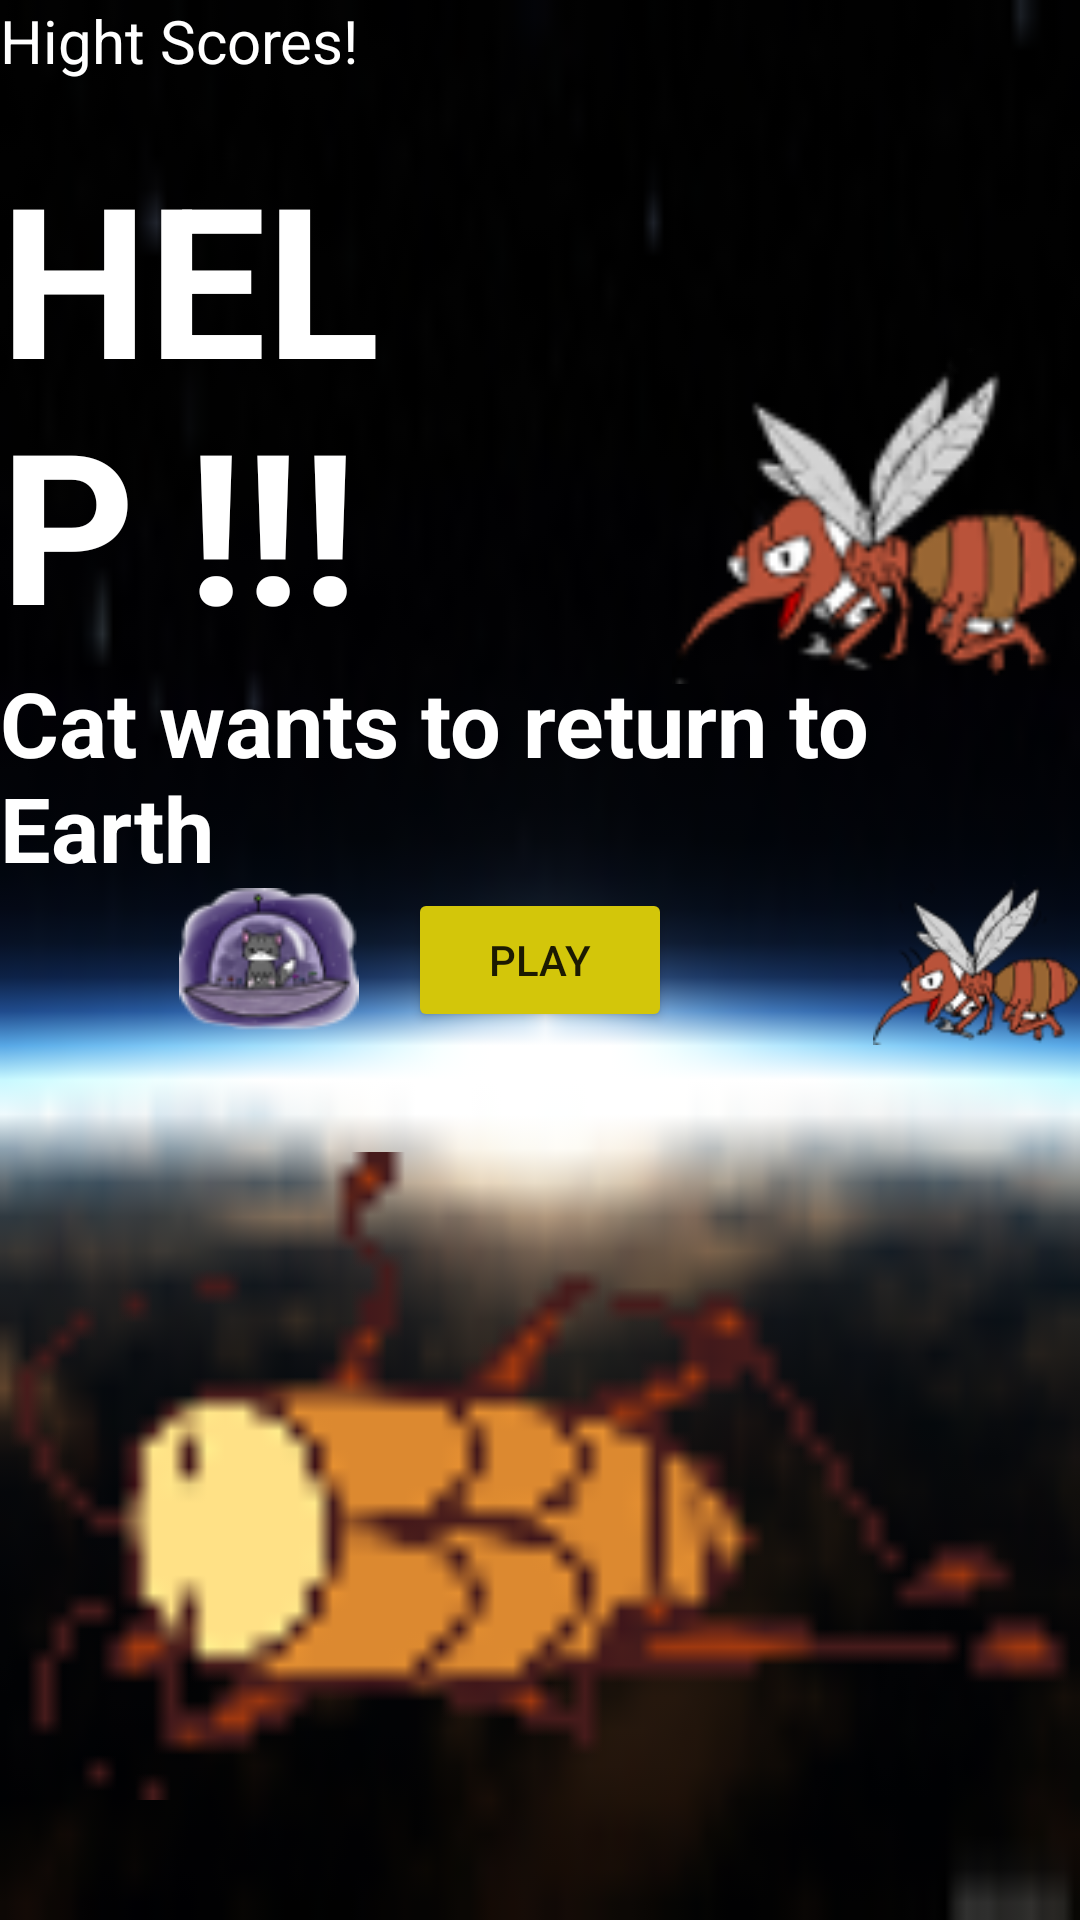

Screen size 1080×1920. Icon name, then its center in pixels as (x,y):
ship: (269,960)
